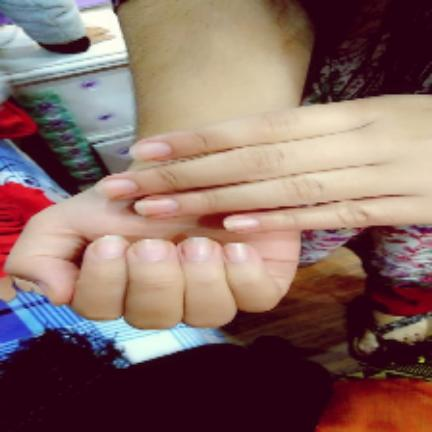Nail: (134, 239, 170, 262), (94, 235, 127, 259), (181, 237, 213, 261), (132, 142, 172, 160), (135, 199, 180, 215), (100, 179, 138, 195), (224, 215, 261, 231), (224, 243, 248, 262), (40, 285, 57, 304)
